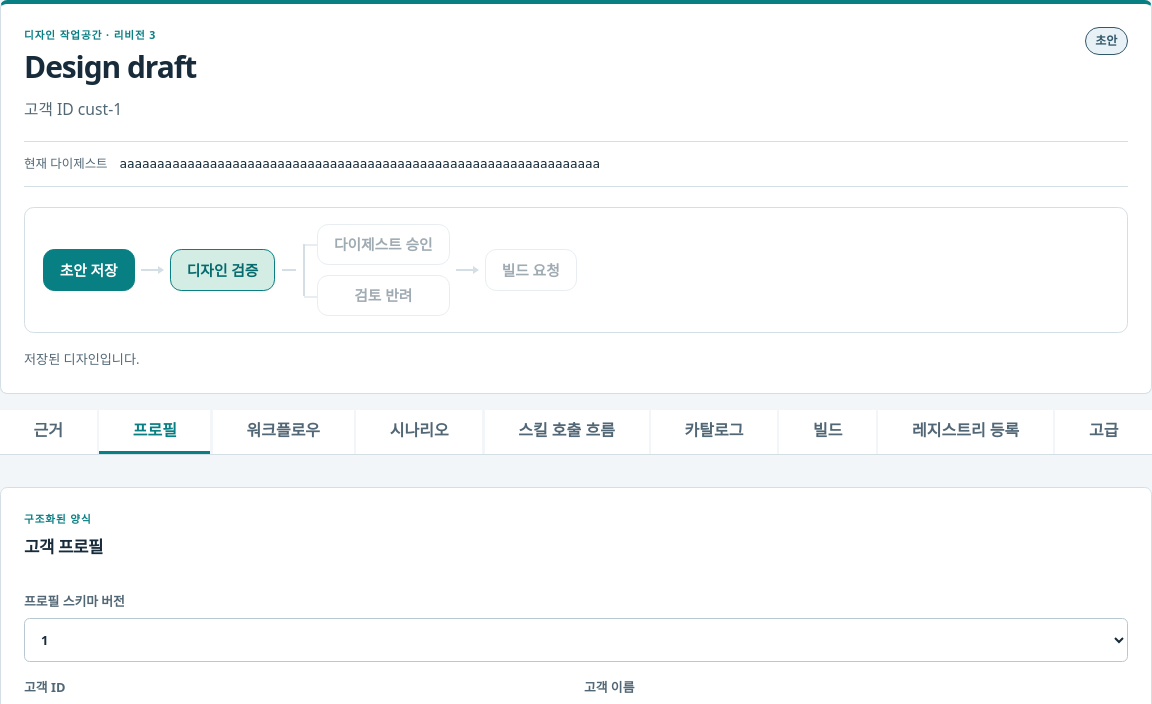
StudioDesignPageContent › shows current server findings when validation fails
This screenshot has width=1152, height=704.
Expected: the heading "Design draft" is shown, x1=24 y1=50 x2=196 y2=83
Click the button "디자인 검증".
click(223, 270)  # box x1=170 y1=249 x2=275 y2=291
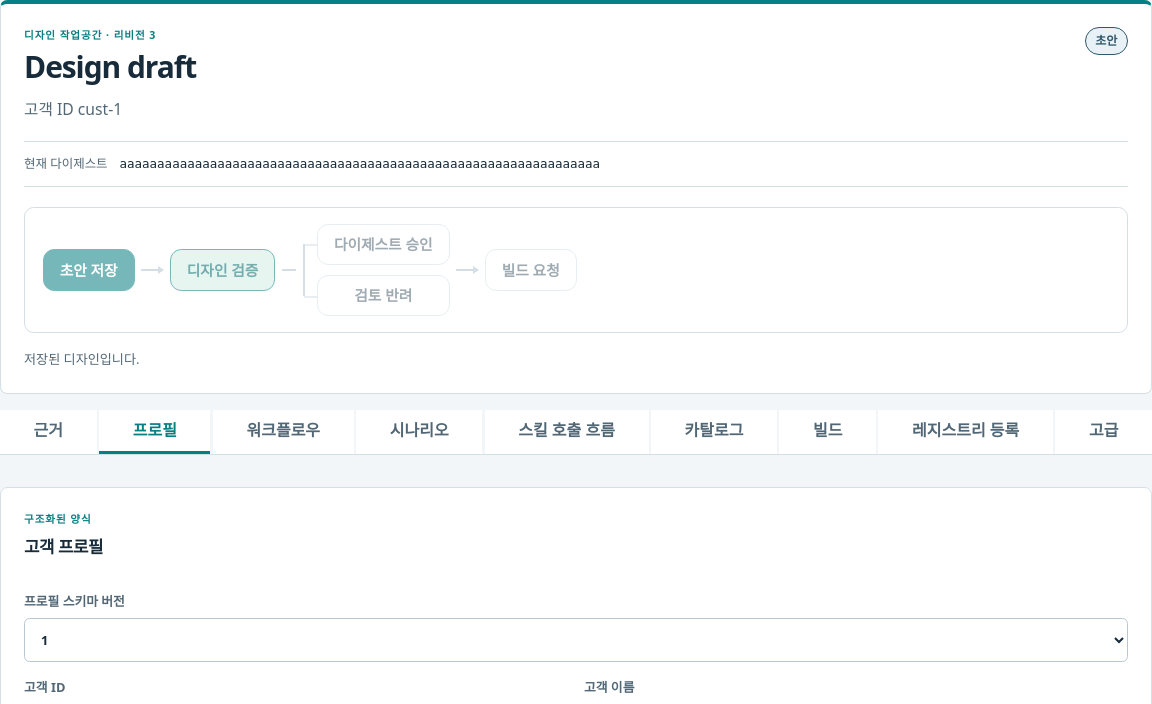
Click the tab "빌드".
click(828, 432)  # box x1=779 y1=410 x2=876 y2=454
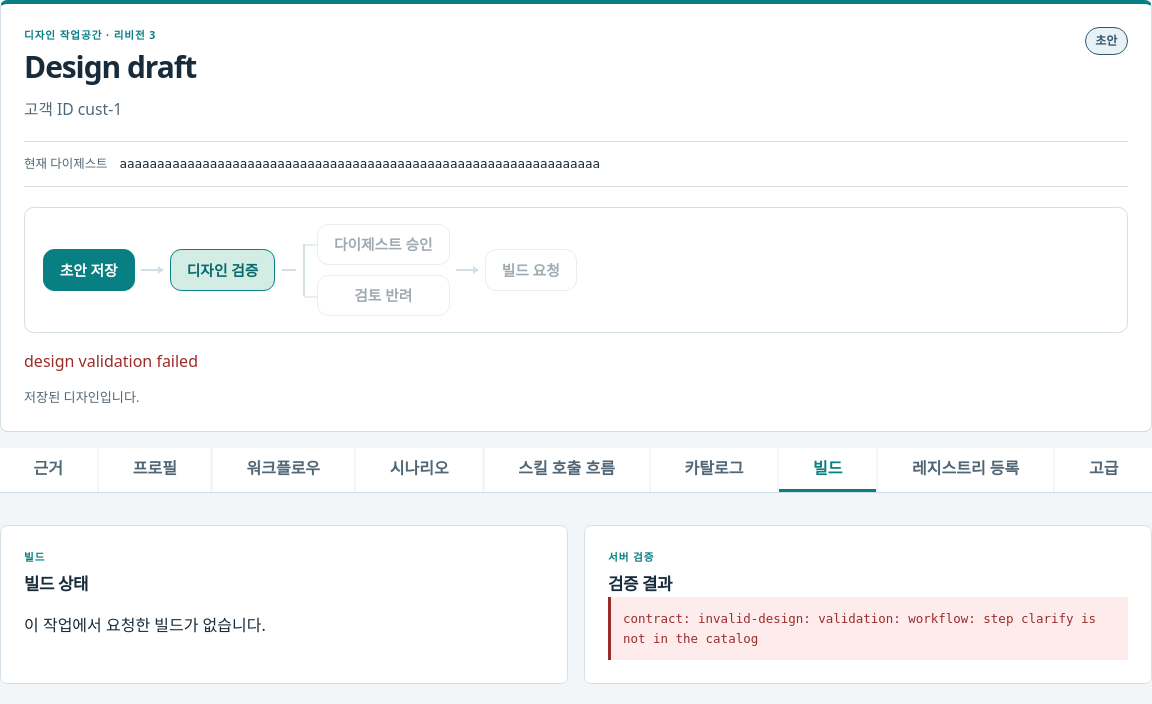
Expected: the text "contract: invalid-design: validation: workflow: step clarify is not in the catalog" is shown, x1=623 y1=612 x2=1104 y2=646
Expected: the text "design validation failed" is shown, x1=24 y1=350 x2=198 y2=372
